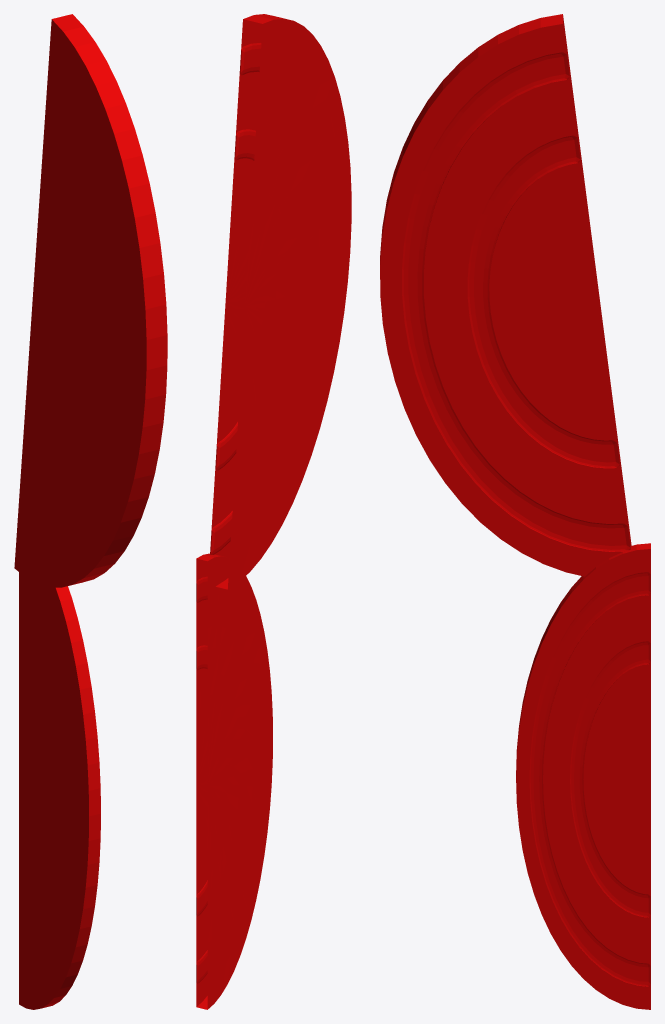
The model's file is rightcurtain.fbx.
The picture shows the model from 3 angles, left to right: view 1: azimuth 30°, elevation 25°; view 2: azimuth 150°, elevation 25°; view 3: azimuth 270°, elevation 25°; orthographic projection. The views are drawn at different scales.
Visible parts, largest first — view 1: polySurface4; view 2: polySurface4; view 3: polySurface4.
Boxes of the visible parts, <box> form: polySurface4: <box>14,14,167,1009</box>; polySurface4: <box>196,14,351,1009</box>; polySurface4: <box>380,14,650,1009</box>.
Bounding box in the file's own units: 53.12 × 2069 × 516.
